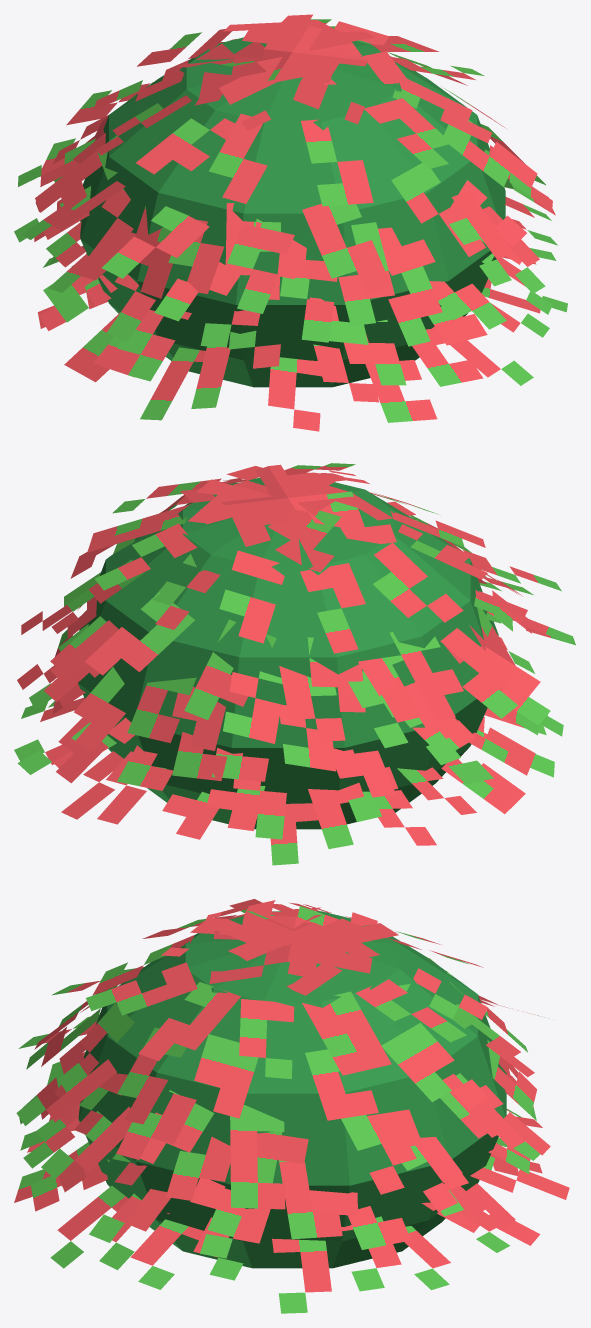
The picture shows the model from 3 angles, top to bottom: view 1: azimuth 30°, elevation 25°; view 2: azimuth 150°, elevation 25°; view 3: azimuth 270°, elevation 25°; orthographic projection.
Visible parts, largest first — view 1: plane (×59), sphere; view 2: plane (×59), sphere; view 3: plane (×52), sphere.
Boxes of the visible parts, bbox=[...] form: plane (×59): bbox=[14, 14, 567, 431]; sphere: bbox=[80, 37, 505, 387]; plane (×59): bbox=[14, 464, 573, 865]; sphere: bbox=[78, 478, 498, 829]; plane (×52): bbox=[16, 900, 569, 1313]; sphere: bbox=[78, 911, 506, 1268].
Bounding box in the file's own units: 1.33 × 0.7092 × 1.32.
Materials: 1 (1 with a texture image).
